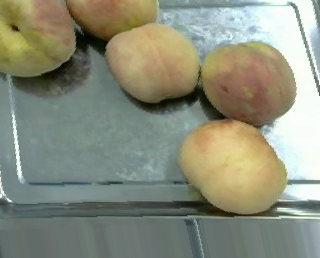Peach: (178, 118, 289, 213), (202, 41, 296, 126), (105, 22, 200, 103), (0, 0, 77, 79), (69, 0, 158, 42)
